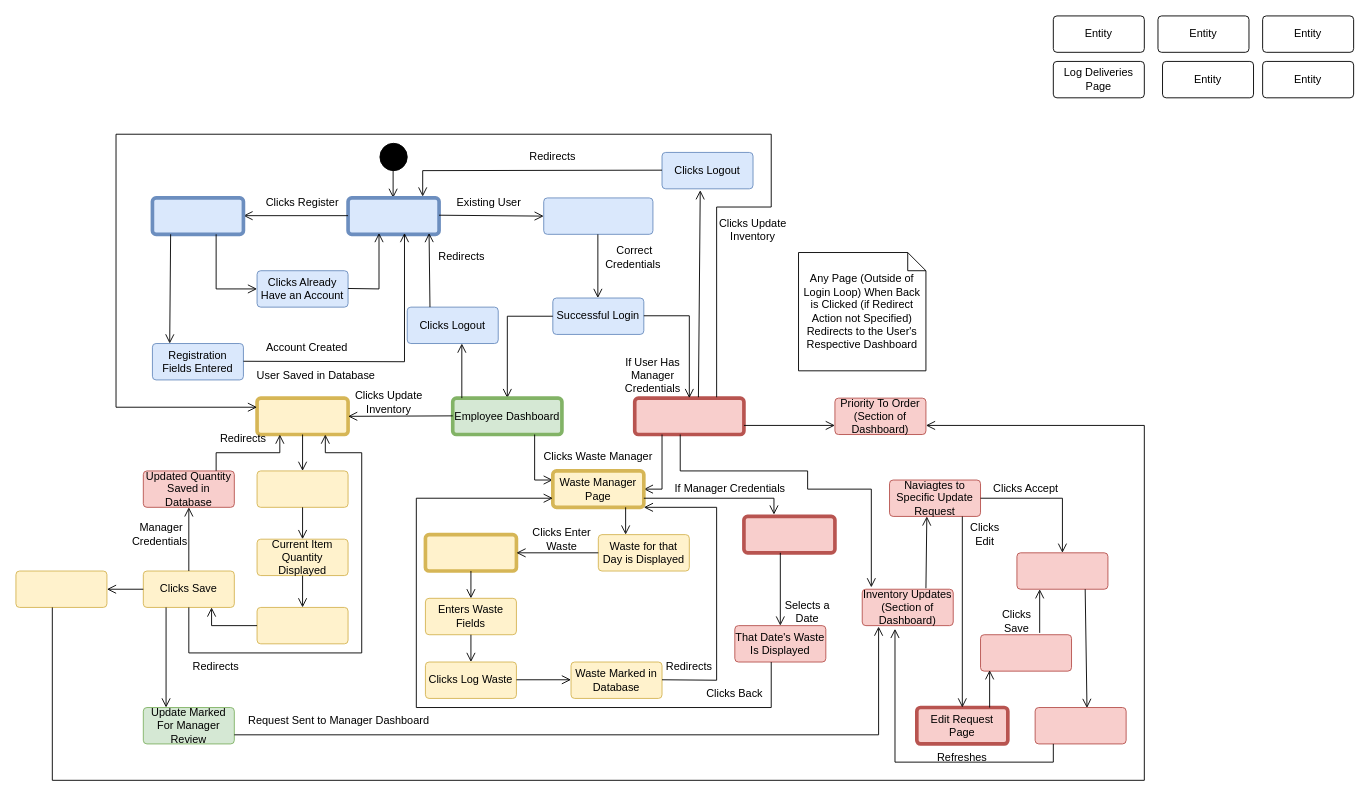
The diagram is 1370 pixels wide and 805 high, and some of its shapes have lost their labels. Here are the shapes that lost their labels. From the top down, the box of each, then its label:
(150, 196, 245, 236): Register Page
(346, 196, 440, 236): Login Page
(543, 197, 653, 234): Credentials Entered
(255, 396, 349, 436): Update Inventory Page
(632, 396, 745, 436): Manager Dashboard
(256, 470, 348, 507): Selects an Existing Inventory Item to Update
(423, 532, 518, 572): Waste Logging Page
(742, 514, 836, 554): Previous Days Waste Page
(15, 570, 107, 607): Quantity Causes Product to go Under Threshold
(1016, 552, 1108, 589): Quantity Updated In Database
(256, 607, 348, 644): New Quantity Entered
(980, 634, 1072, 671): Edits Quantity
(1034, 707, 1126, 744): Update Request Removed
